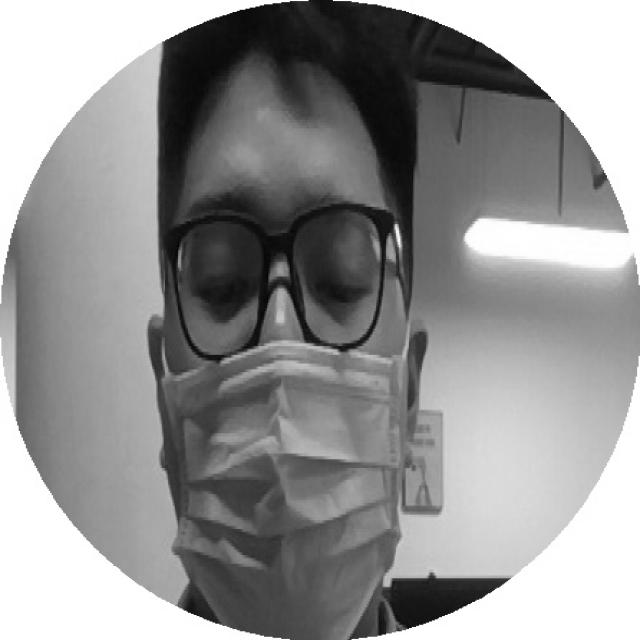fake: (171, 350, 430, 638)
real: (181, 194, 381, 315)
